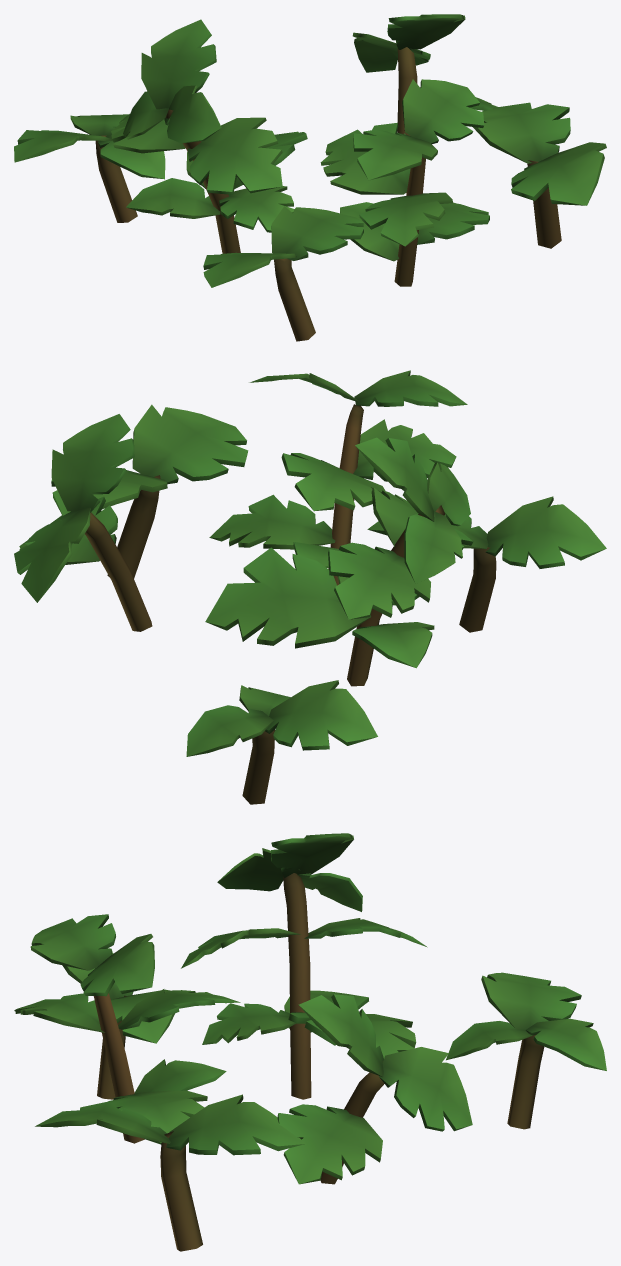
File: SM_Plant_Gooseberry_Lv1.fbx
The picture shows the model from 3 angles, top to bottom: view 1: azimuth 30°, elevation 25°; view 2: azimuth 150°, elevation 25°; view 3: azimuth 270°, elevation 25°; orthographic projection. The views are drawn at different scales.
Visible parts, largest first — view 1: SM_Plant_Gooseberry_Lv1; view 2: SM_Plant_Gooseberry_Lv1; view 3: SM_Plant_Gooseberry_Lv1.
Part boxes in pixels (x1,y1,x2,y2): SM_Plant_Gooseberry_Lv1: (14,14,606,341); SM_Plant_Gooseberry_Lv1: (14,370,606,804); SM_Plant_Gooseberry_Lv1: (14,833,606,1251).
Bounding box in the file's own units: 36.41 × 21.4 × 39.77.
